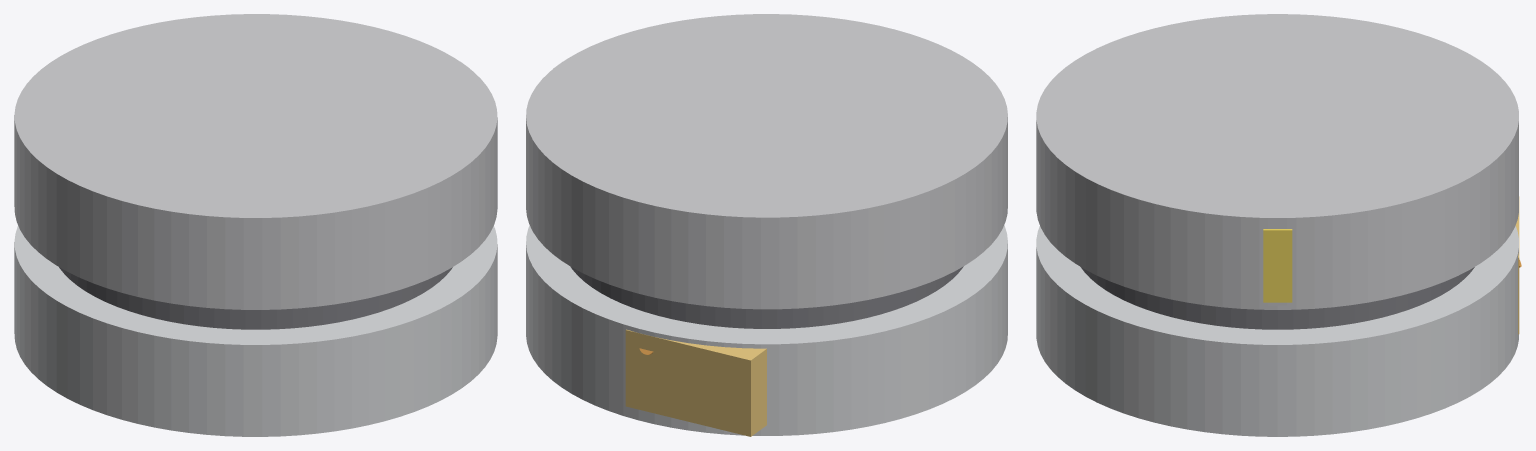
Rendered from robo01_rotor_xs.glb.
The picture shows the model from 3 angles, left to right: view 1: azimuth 30°, elevation 25°; view 2: azimuth 150°, elevation 25°; view 3: azimuth 270°, elevation 25°; orthographic projection.
Parts seen in each view (by area): view 1: half_b_rotor, base, bearing; view 2: half_b_rotor, base, drive, bearing; view 3: half_b_rotor, base, bearing, half_b_mark.
Boxes of the visible parts, x1,y1,x2,y2 form: half_b_rotor: [14, 14, 497, 309]; base: [14, 225, 497, 436]; bearing: [59, 267, 452, 329]; half_b_rotor: [526, 14, 1007, 309]; base: [526, 225, 1007, 435]; drive: [625, 329, 766, 436]; bearing: [570, 266, 963, 328]; half_b_rotor: [1036, 14, 1518, 309]; base: [1036, 226, 1518, 436]; bearing: [1081, 267, 1474, 329]; half_b_mark: [1263, 229, 1292, 302].
Bounding box in the file's own units: 0.302 × 0.15 × 0.3013.
